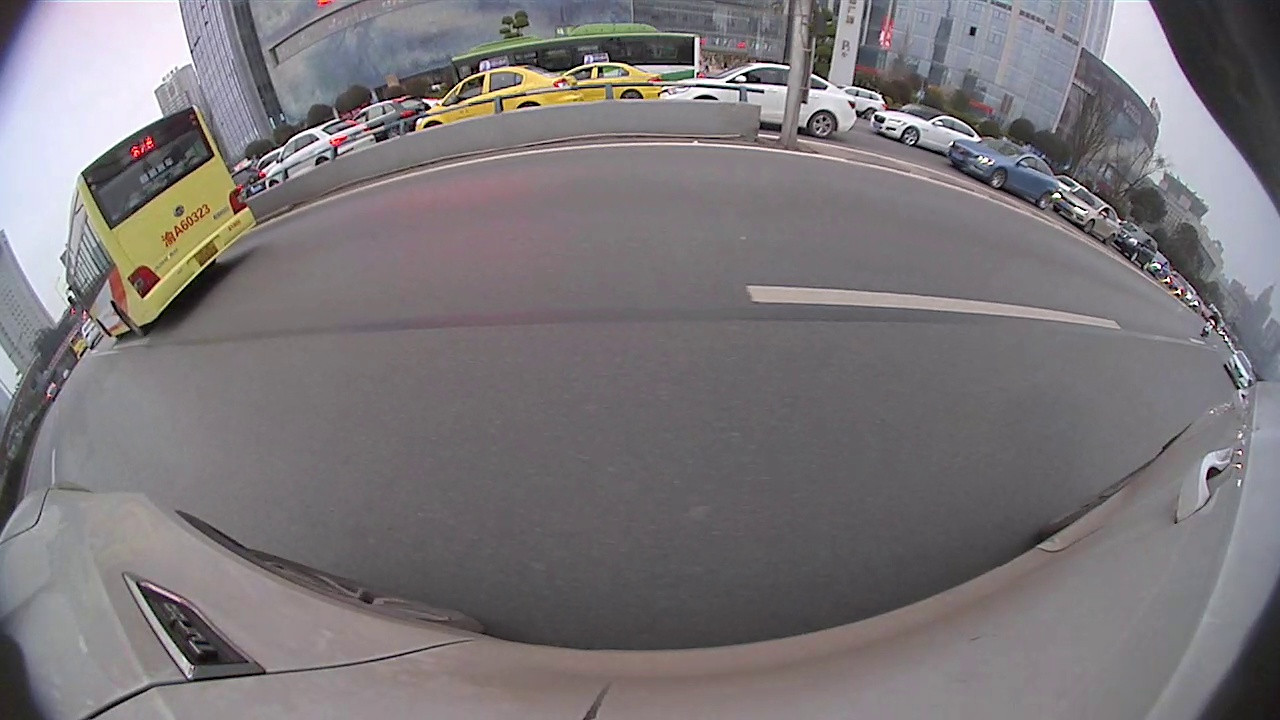bus: (63, 103, 258, 347), (446, 21, 703, 85)
car: (660, 60, 858, 142), (411, 56, 605, 134), (264, 118, 378, 193), (949, 138, 1058, 213), (548, 52, 666, 108), (869, 105, 982, 163), (1053, 184, 1120, 248), (353, 93, 429, 148), (839, 85, 888, 120), (226, 168, 264, 206)
front: (894, 127, 919, 148), (986, 168, 1006, 191), (1079, 217, 1095, 236)
rear: (110, 300, 148, 340), (809, 112, 838, 140), (1035, 193, 1056, 213), (1100, 233, 1119, 252)
